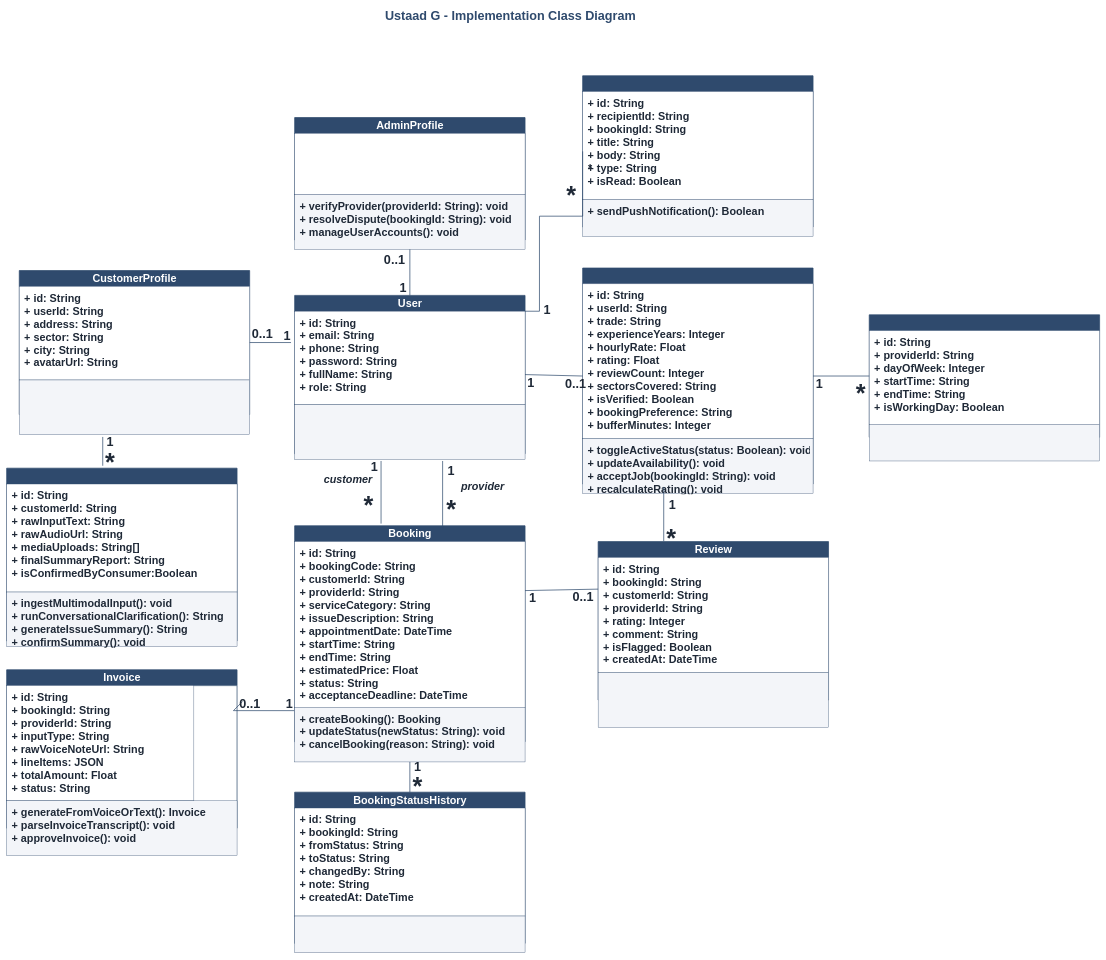
Some shapes in this 1106 by 960 pixel diagram are drawn without their labels. Here are the shapes that lost their labels. From the top down, the box of each, then its label:
(294, 133, 525, 195): + id: String + userId: String + permissionsLevel: String + department: String
(582, 75, 813, 227): NotificationLog
(582, 267, 813, 484): ProviderProfile
(869, 314, 1100, 437): WorkingHours
(19, 380, 250, 435): + updateAddress(): void + enableLocationPermissions(): Boolean
(294, 404, 525, 460): + register(): User + login(): AuthToken + updateProfile(): Boolean
(869, 424, 1100, 461): + setSchedule(): void
(6, 468, 237, 641): AiDiagnosisSession
(598, 672, 829, 727): + submitReview(): Review + flagSuspiciousReview(): void
(294, 916, 525, 953): + logStatusChange(): void
